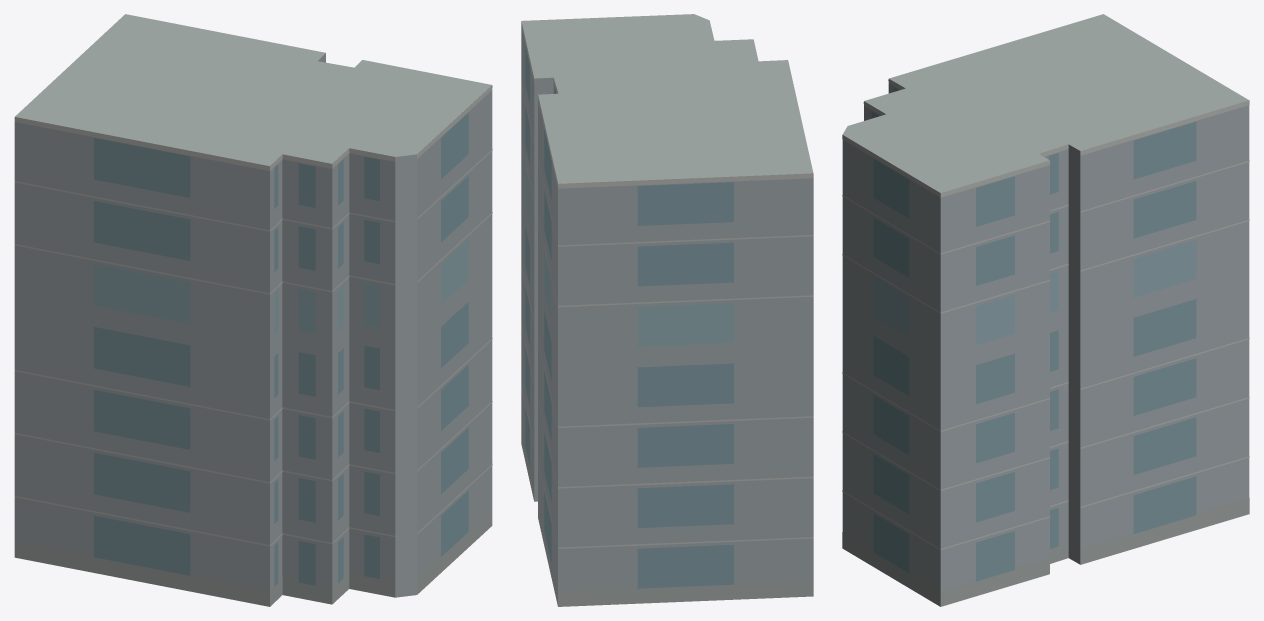
File: survey-upis-32913429.glb
The picture shows the model from 3 angles, left to right: view 1: azimuth 30°, elevation 25°; view 2: azimuth 150°, elevation 25°; view 3: azimuth 270°, elevation 25°; orthographic projection. The views are drawn at different scales.
Visible parts, largest first — view 1: survey-upis-32913429.tmp; view 2: survey-upis-32913429.tmp; view 3: survey-upis-32913429.tmp.
Boxes of the visible parts, x1,y1,x2,y2 form: survey-upis-32913429.tmp: [14, 14, 492, 606]; survey-upis-32913429.tmp: [521, 14, 813, 606]; survey-upis-32913429.tmp: [842, 14, 1249, 606].
Size of the model in its own units: 19.84 by 21.35 by 19.05.
